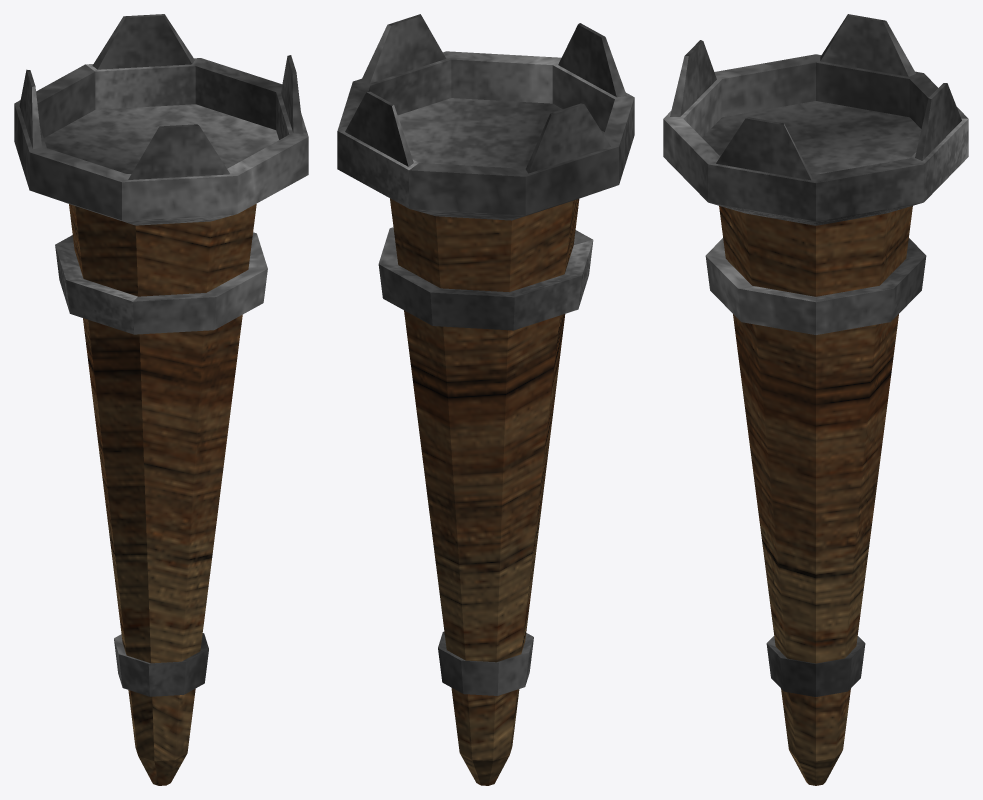
File: torch.fbx
3 renders of one model, left to right at view 1: azimuth 30°, elevation 25°; view 2: azimuth 150°, elevation 25°; view 3: azimuth 270°, elevation 25°, orthographic.
Parts seen in each view (by area): view 1: Torch; view 2: Torch; view 3: Torch.
Part boxes in pixels (x1,y1,x2,y2): Torch: (14, 14, 308, 785); Torch: (337, 14, 634, 785); Torch: (663, 14, 968, 785).
Size of the model in its own units: 201 by 516 by 201.
